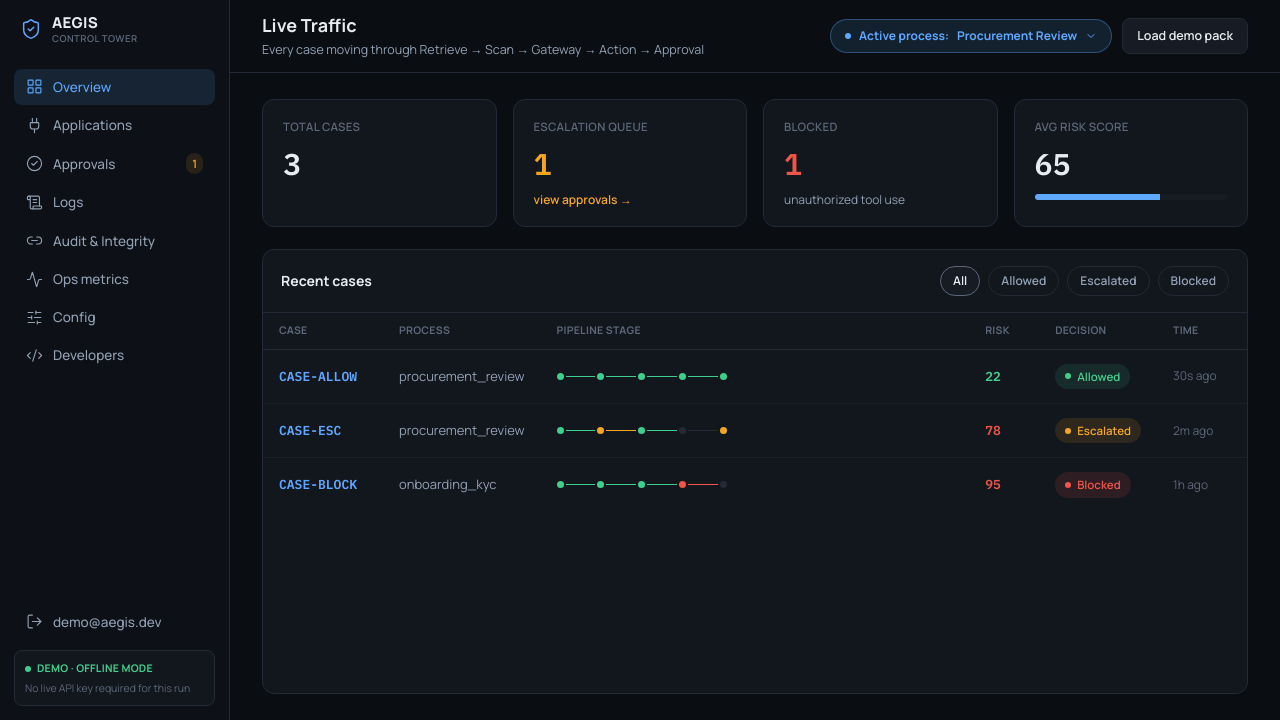
Test case: OverviewPage › filters by decision
Check: the link "CASE-ALLOW" is shown, box x1=279 y1=368 x2=357 y2=385
Click the button "Blocked": (1193, 281) x1=1158 y1=266 x2=1229 y2=296
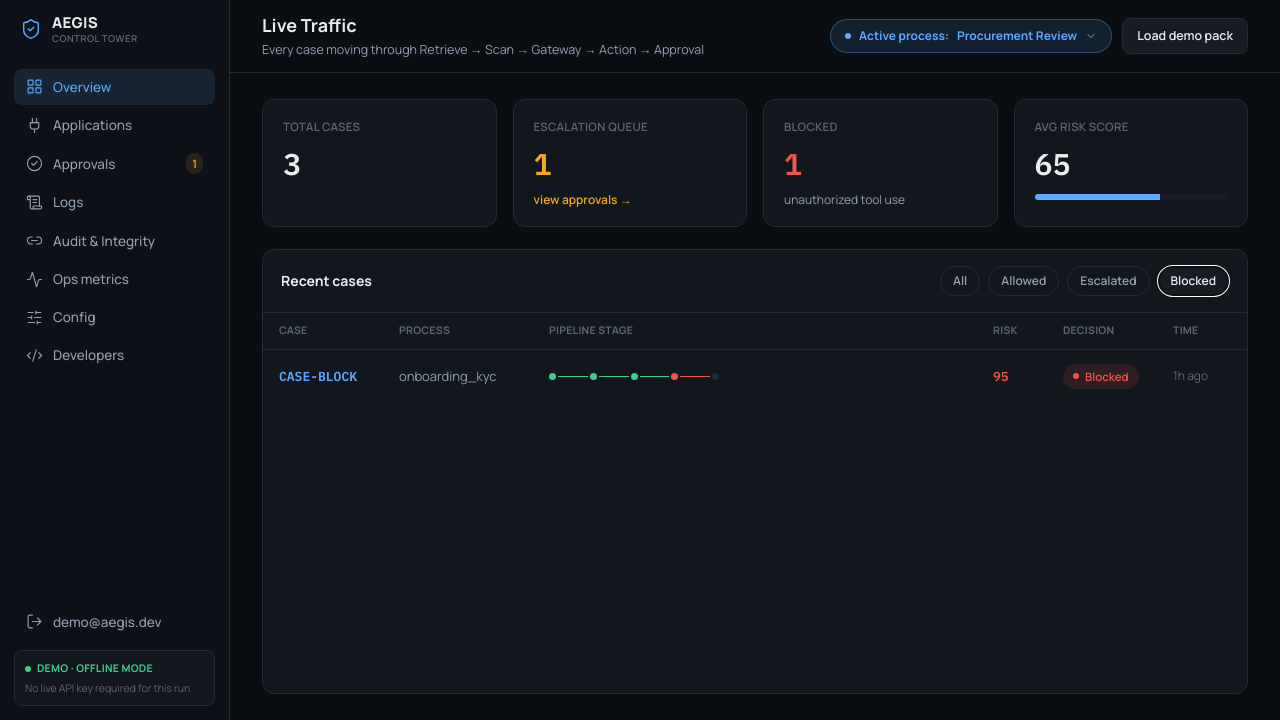
Check: the link "CASE-BLOCK" is shown, box x1=279 y1=368 x2=357 y2=385
Check: the link "CASE-ALLOW" is gone
Click the button "Allowed": (1024, 281) x1=988 y1=266 x2=1059 y2=296
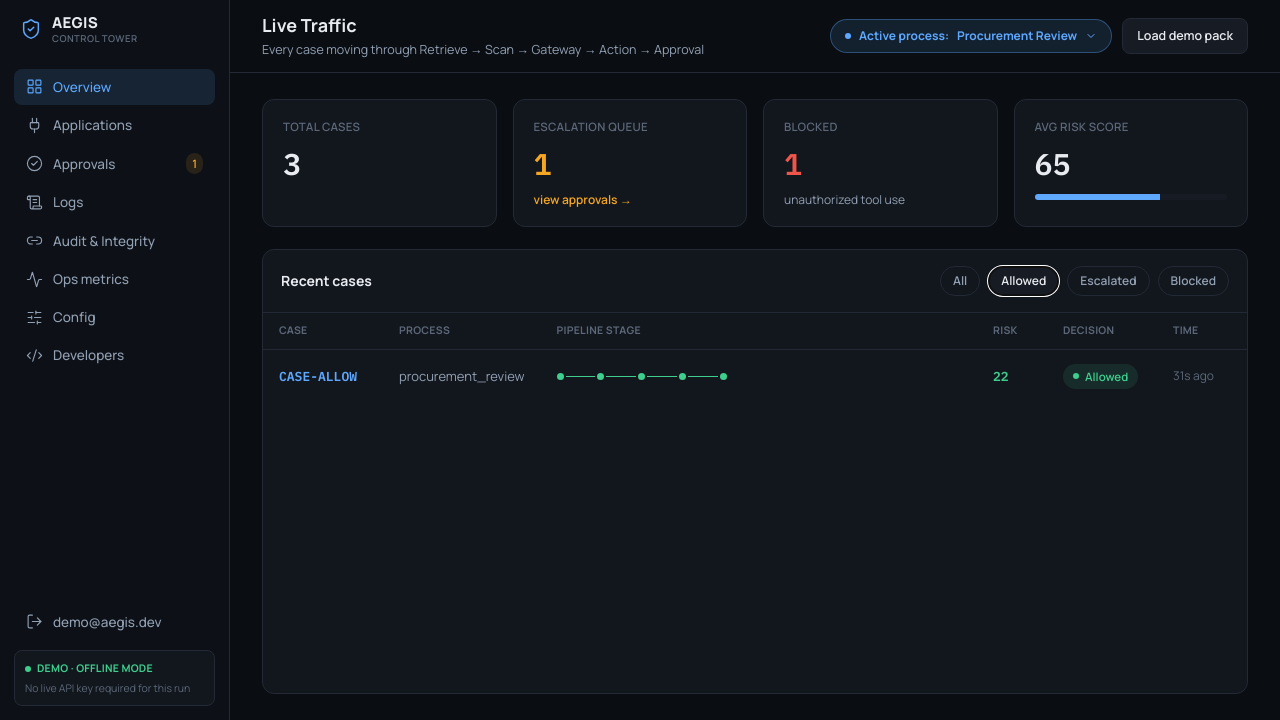
Check: the link "CASE-ALLOW" is shown, box x1=279 y1=368 x2=357 y2=385
Check: the link "CASE-BLOCK" is gone
Click the button "Escalated": (1108, 281) x1=1067 y1=266 x2=1150 y2=296
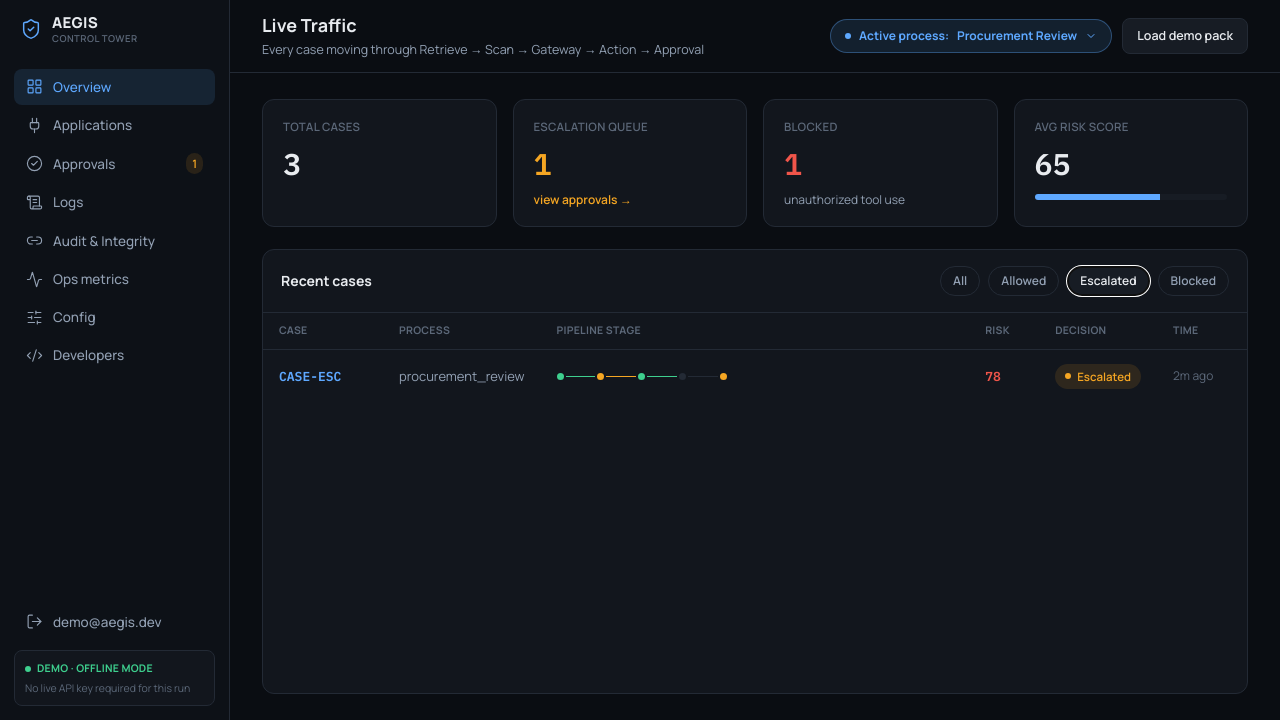
Check: the link "CASE-ESC" is shown, box x1=279 y1=368 x2=341 y2=385
